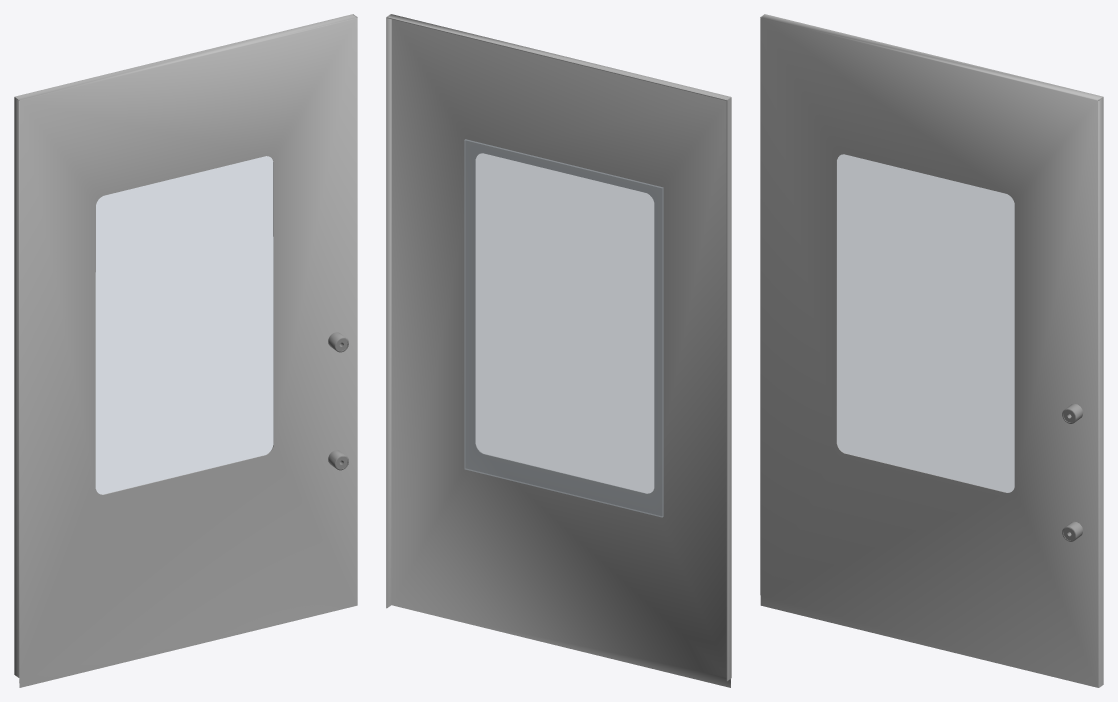
The model's file is door.dae.
3 renders of one model, left to right at view 1: azimuth 30°, elevation 25°; view 2: azimuth 150°, elevation 25°; view 3: azimuth 330°, elevation 25°, orthographic.
Visible parts, largest first — view 1: Door; view 2: Door; view 3: Door.
Boxes of the visible parts, x1,y1,x2,y2 form: Door: [14, 14, 357, 687]; Door: [386, 14, 731, 687]; Door: [760, 14, 1103, 687].
Bounding box in the file's own units: 0.903 × 0.0542 × 1.5.
